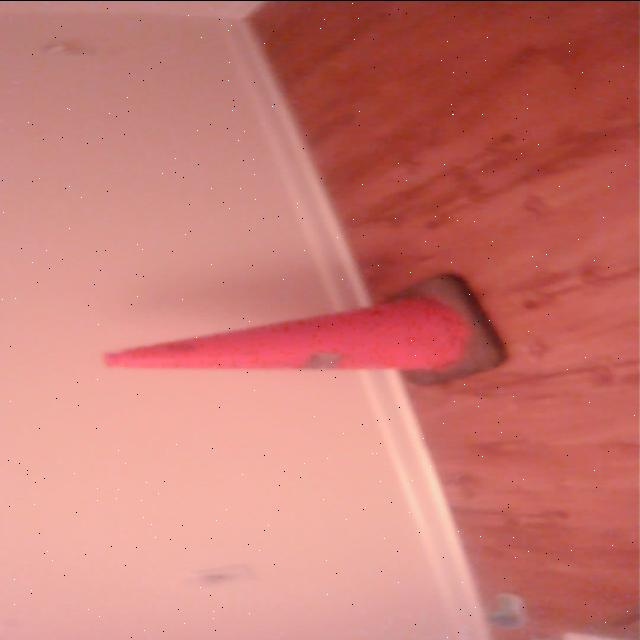traffic cone: (97, 271, 515, 390)
